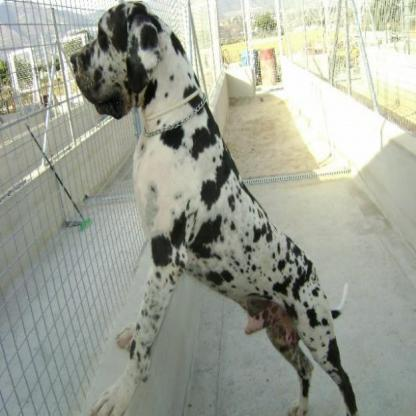Great_Dane: (68, 0, 358, 413)
